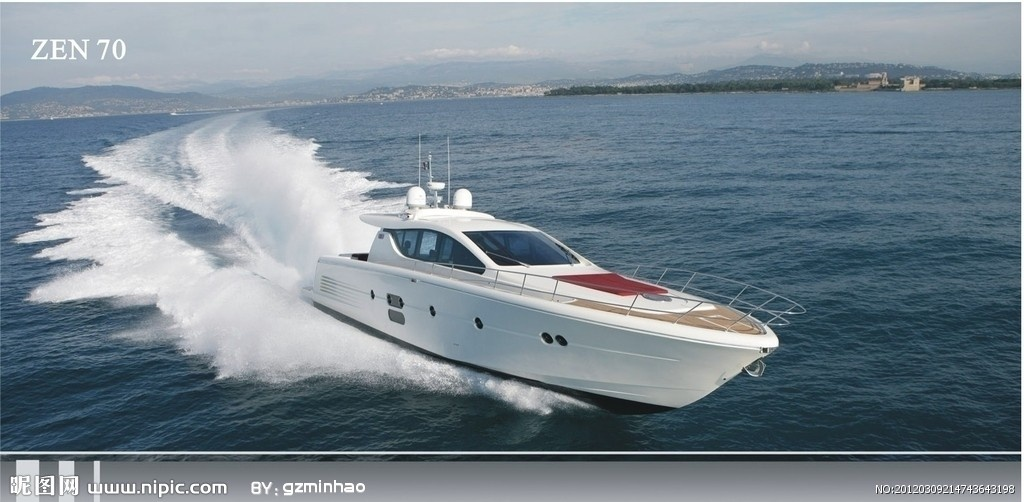yacht: (302, 135, 796, 409)
